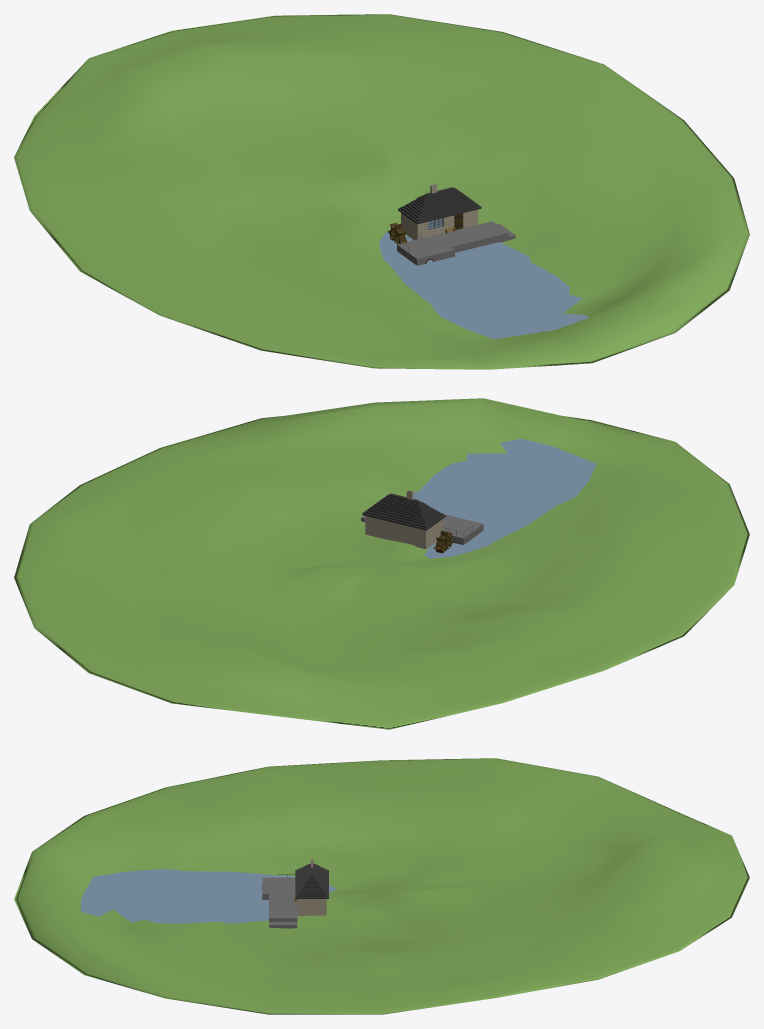
The model's file is teset5.fbx.
3 renders of one model, top to bottom at view 1: azimuth 30°, elevation 25°; view 2: azimuth 150°, elevation 25°; view 3: azimuth 270°, elevation 25°, orthographic. The views are drawn at different scales.
Visible parts, largest first — view 1: hill, water, housebase, polySurface1; view 2: hill, water, housebase, polySurface1; view 3: hill, water, housebase, polySurface1.
Boxes of the visible parts, left/top/right/bottom form: hill: left=14, top=14, right=749, bottom=369; water: left=379, top=231, right=587, bottom=339; housebase: left=398, top=184, right=481, bottom=240; polySurface1: left=397, top=221, right=515, bottom=265; hill: left=14, top=398, right=749, bottom=729; water: left=406, top=439, right=595, bottom=558; housebase: left=362, top=490, right=445, bottom=549; polySurface1: left=361, top=515, right=483, bottom=544; hill: left=14, top=758, right=749, bottom=1014; water: left=80, top=869, right=336, bottom=923; housebase: left=295, top=859, right=328, bottom=915; polySurface1: left=262, top=877, right=297, bottom=928.
Bounding box in the file's own units: 60.89 × 5.82 × 73.43.
